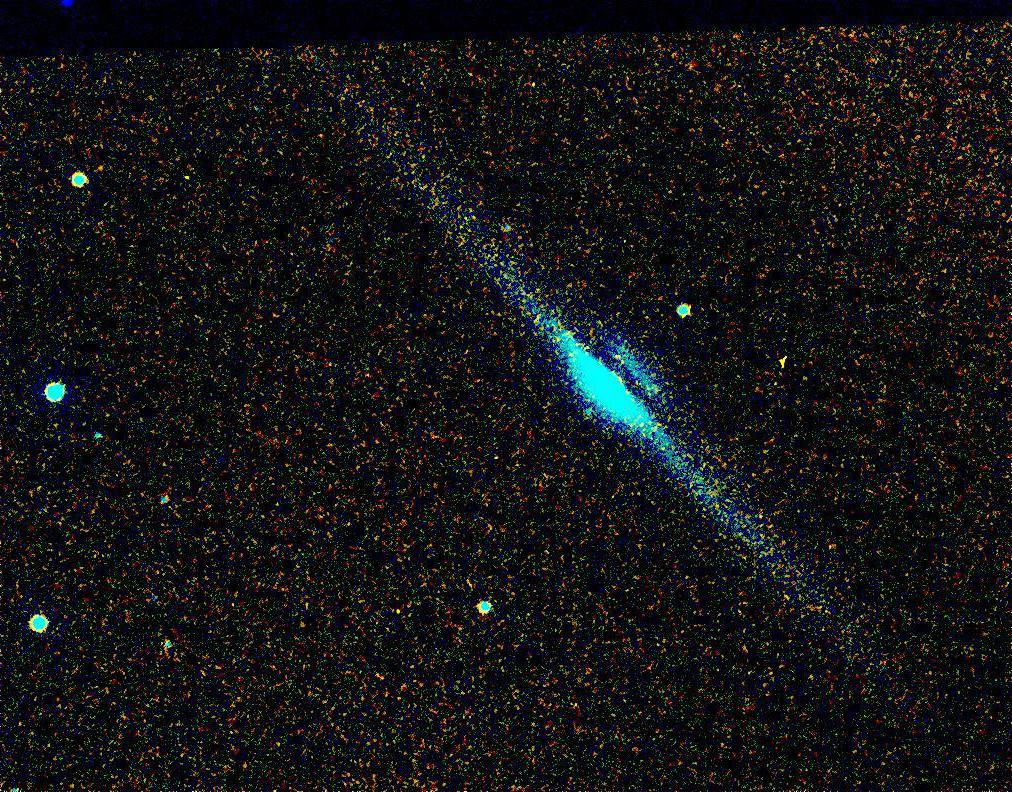star: (769, 349, 799, 379)
